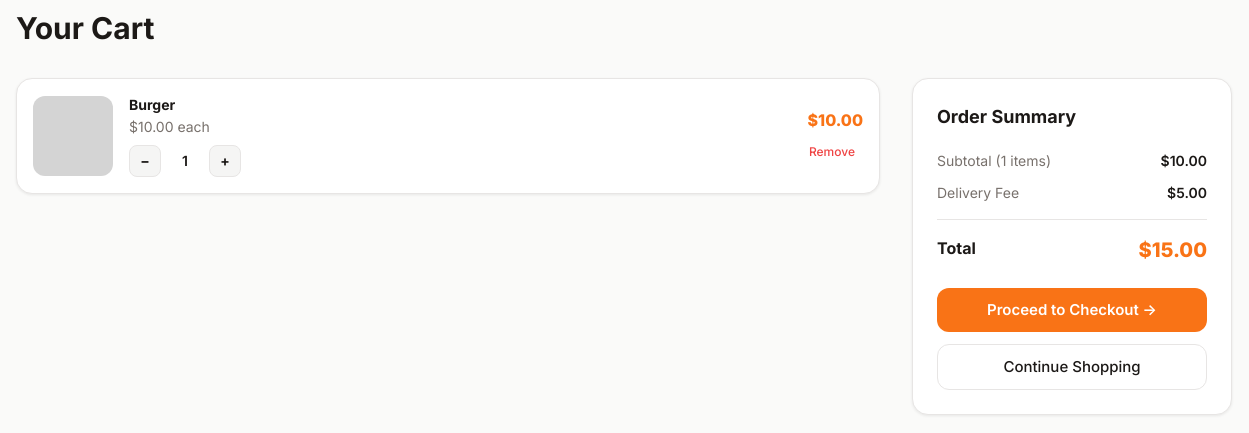
CartPage › removes the item from the store entirely when decrementing from a quantity of one
The image size is (1249, 433).
Action: Click decrement
Click the button "−".
click(145, 161)  # box [129,145,161,177]
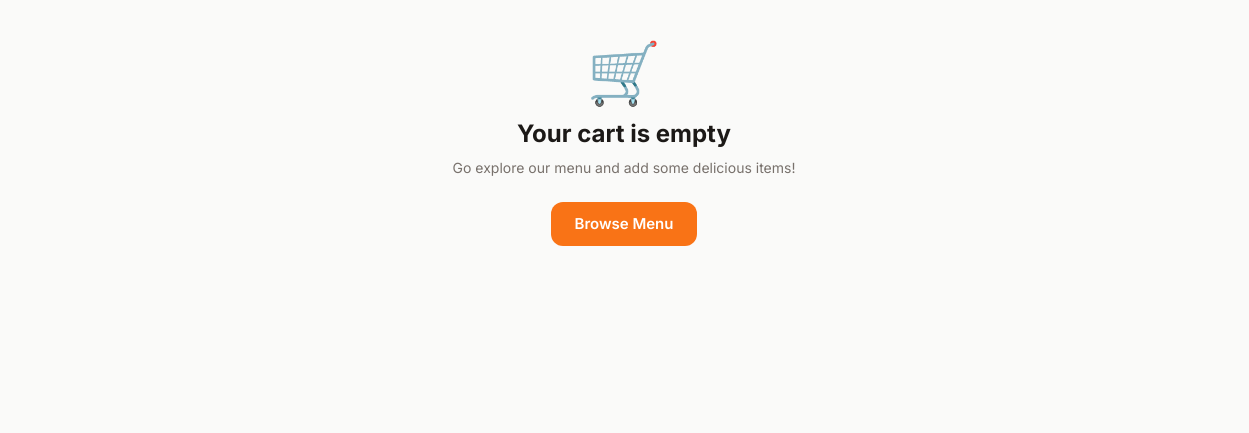
Now the heading "Burger" is gone
